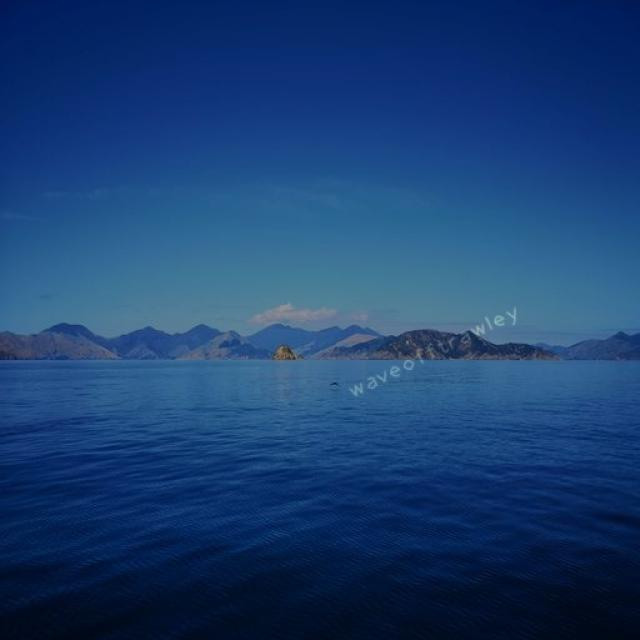watermark: (345, 299, 522, 402)
